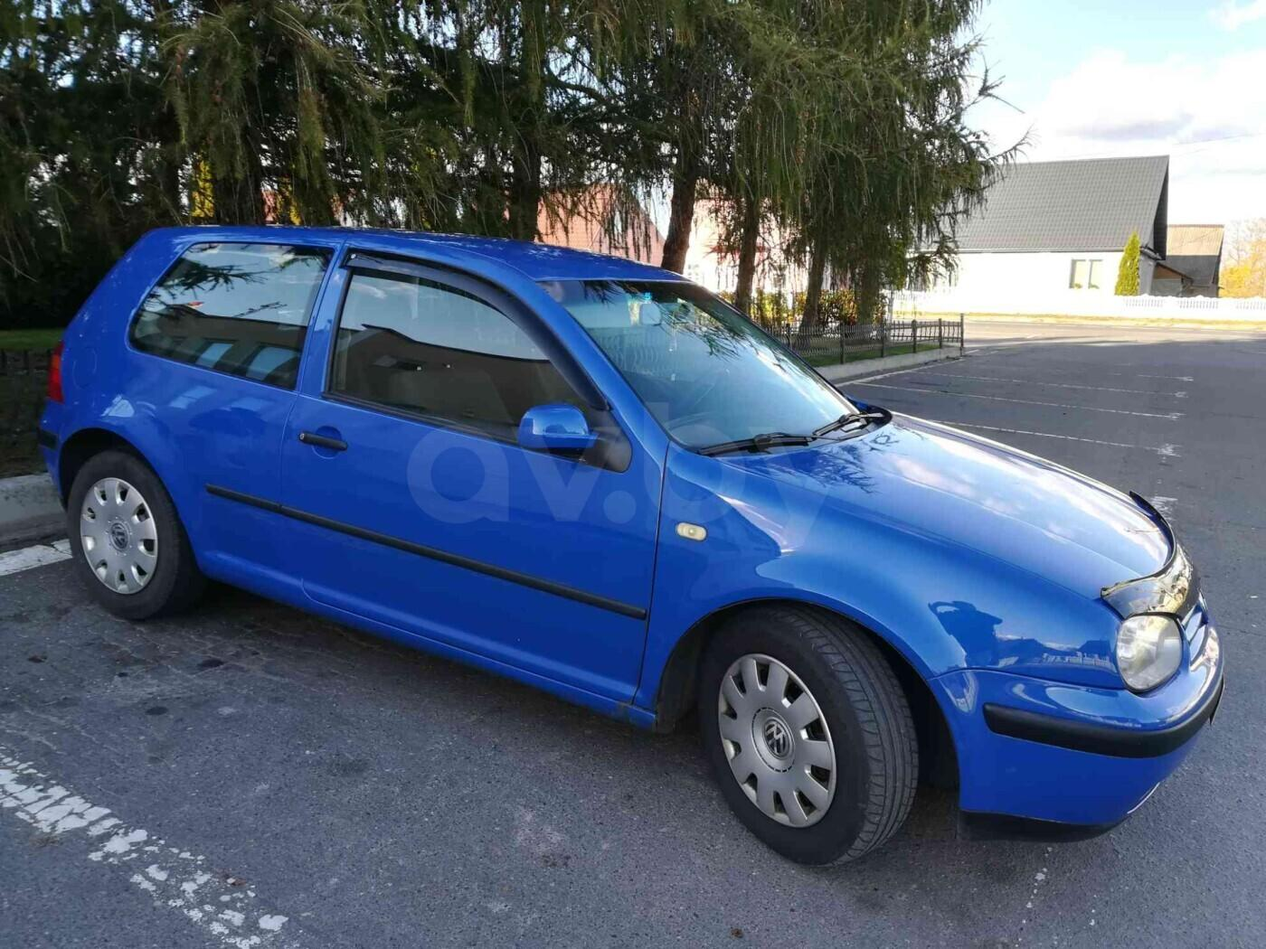Golf_1997-2006: (31, 217, 1221, 868)
